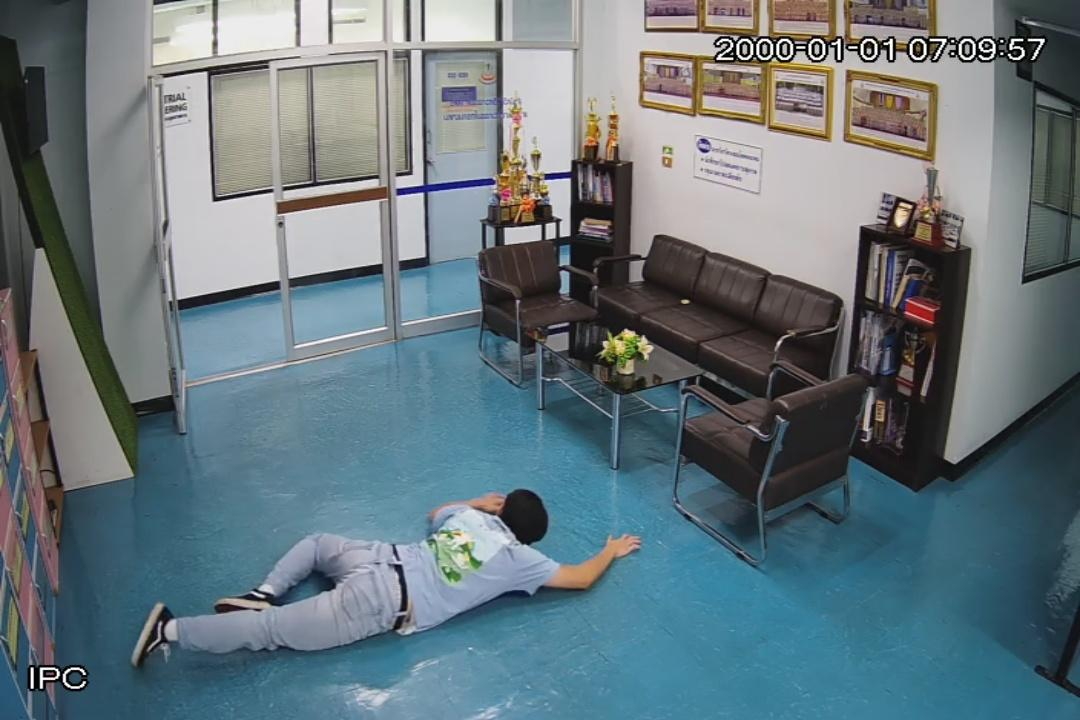fall: (132, 478, 641, 672)
